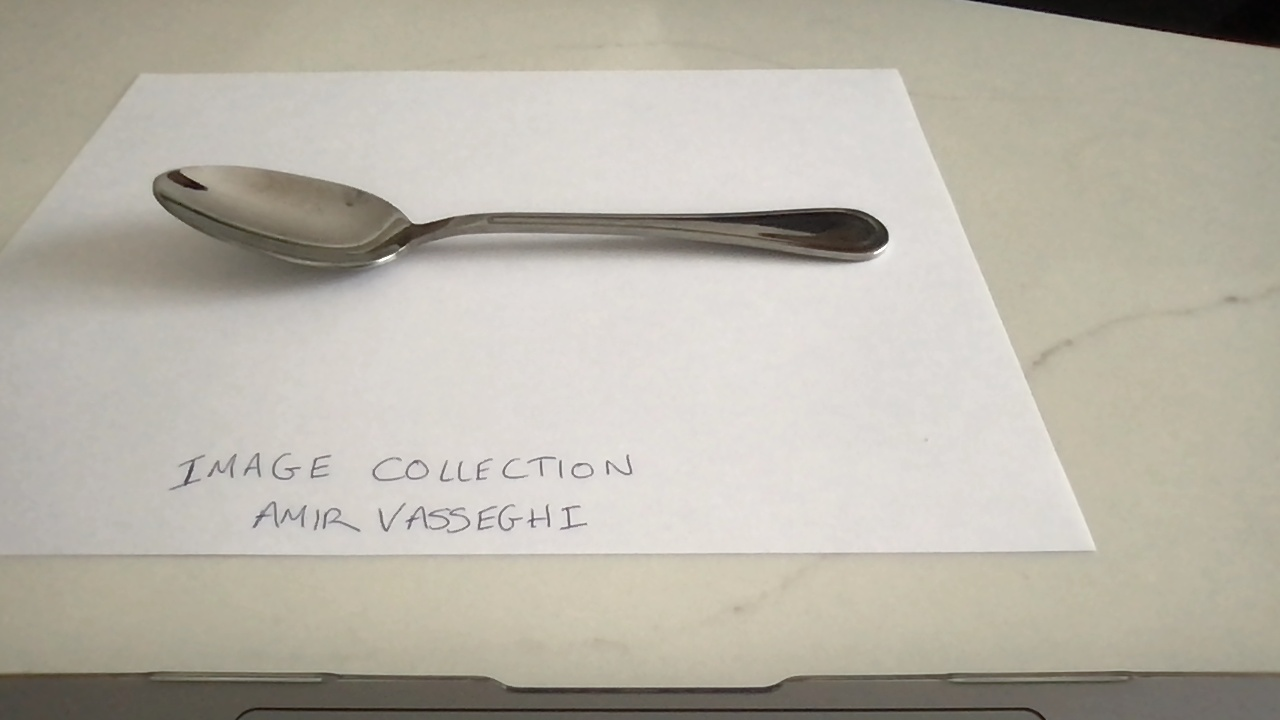spoon: (151, 162, 891, 271)
